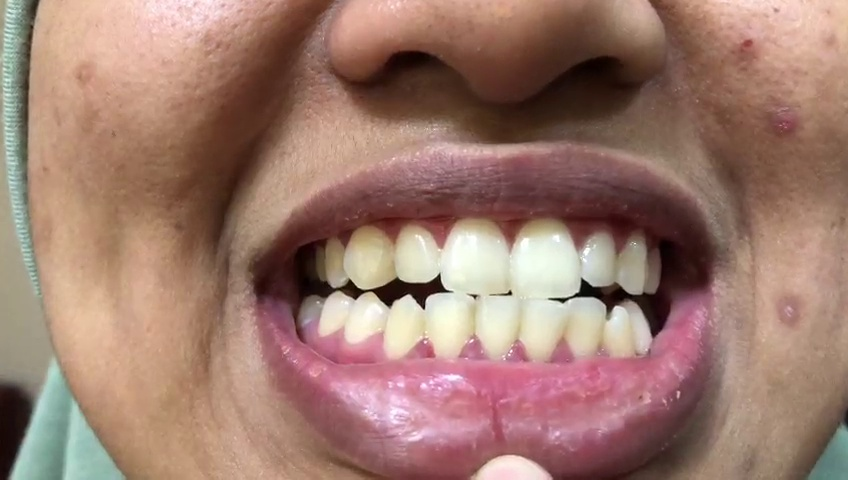1st Molar: (296, 294, 322, 326)
1st Premolar: (346, 291, 387, 347), (321, 231, 347, 293), (624, 300, 653, 354), (644, 248, 664, 299)
2nd Premolar: (319, 293, 353, 339)
Canine: (344, 224, 395, 291), (384, 297, 425, 359), (617, 231, 650, 295), (604, 305, 635, 362)
Central Incisor: (510, 215, 584, 297), (440, 217, 513, 294), (521, 294, 569, 365), (477, 294, 521, 362)
Lateral Incisor: (424, 291, 476, 362), (566, 296, 607, 361), (395, 223, 438, 284), (581, 224, 617, 288)
